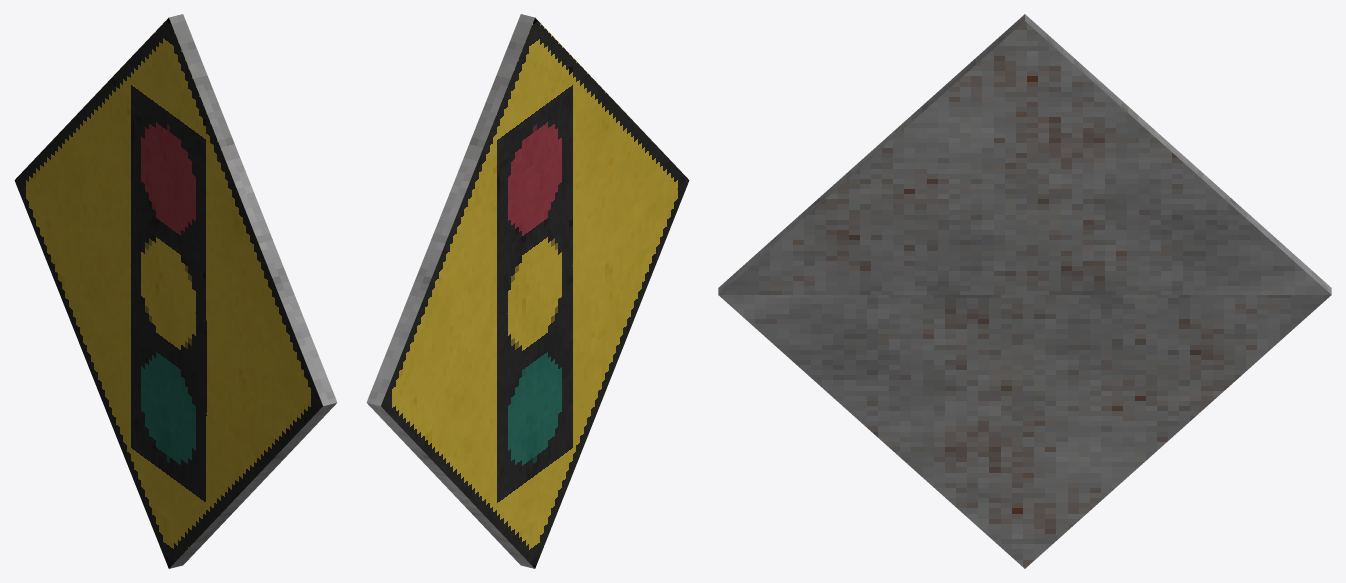
File: Sign_TrafficLight_Plate.glb
The picture shows the model from 3 angles, left to right: view 1: azimuth 30°, elevation 25°; view 2: azimuth 150°, elevation 25°; view 3: azimuth 270°, elevation 25°; orthographic projection.
Visible parts, largest first — view 1: Sign_TrafficLight_Plate; view 2: Sign_TrafficLight_Plate; view 3: Sign_TrafficLight_Plate.
Part boxes in pixels (x1,y1,x2,y2): Sign_TrafficLight_Plate: (14,14,337,568); Sign_TrafficLight_Plate: (366,14,689,568); Sign_TrafficLight_Plate: (718,14,1331,568).
Size of the model in its own units: 0.0152 by 0.5584 by 0.5665.
Materials: 1 (1 with a texture image).
